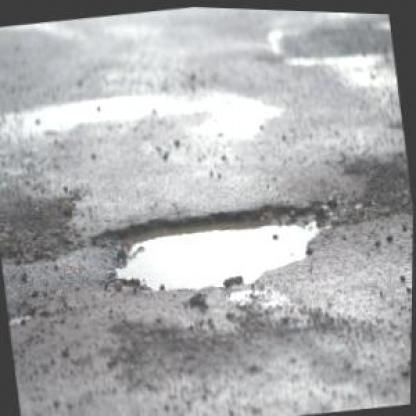pothole: (98, 184, 340, 308)
